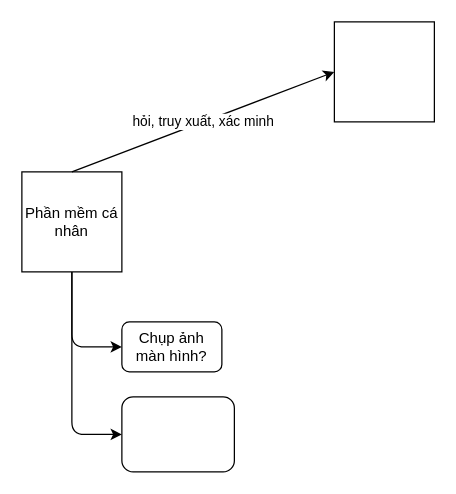
Some shapes in this 456 by 494 pixel diagram are drawn without their labels. The shapes that lost their labels are listed below. From the top down, each one's centre as x and y in pixels, then its label:
point (383, 71): Server
point (177, 434): Bản nhập tài khoản và nội dung tin nhắn
